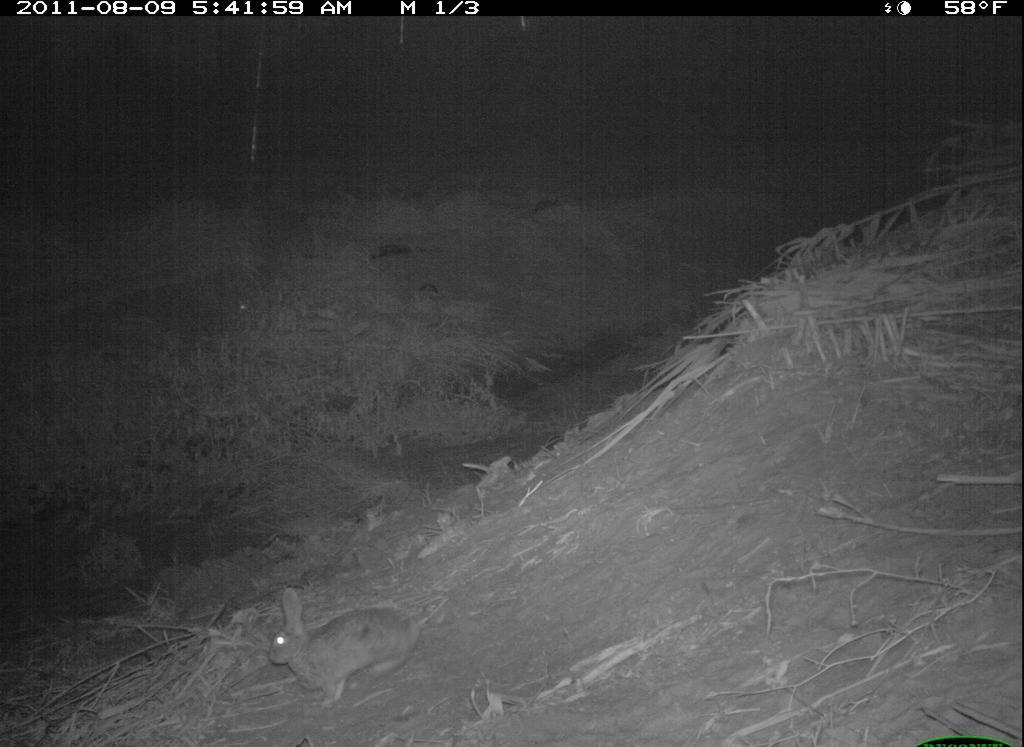rabbit: (263, 577, 432, 710)
